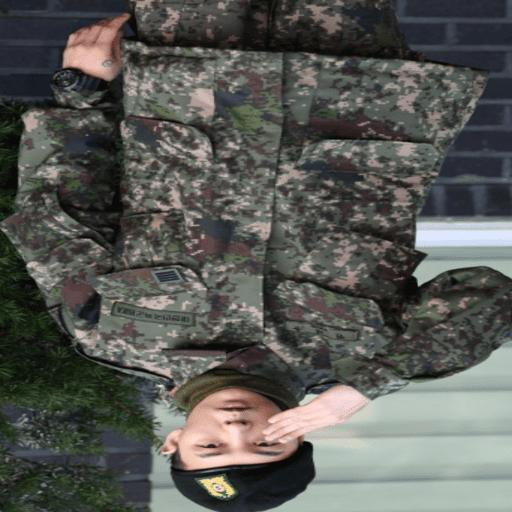korea army: (11, 3, 512, 512)
